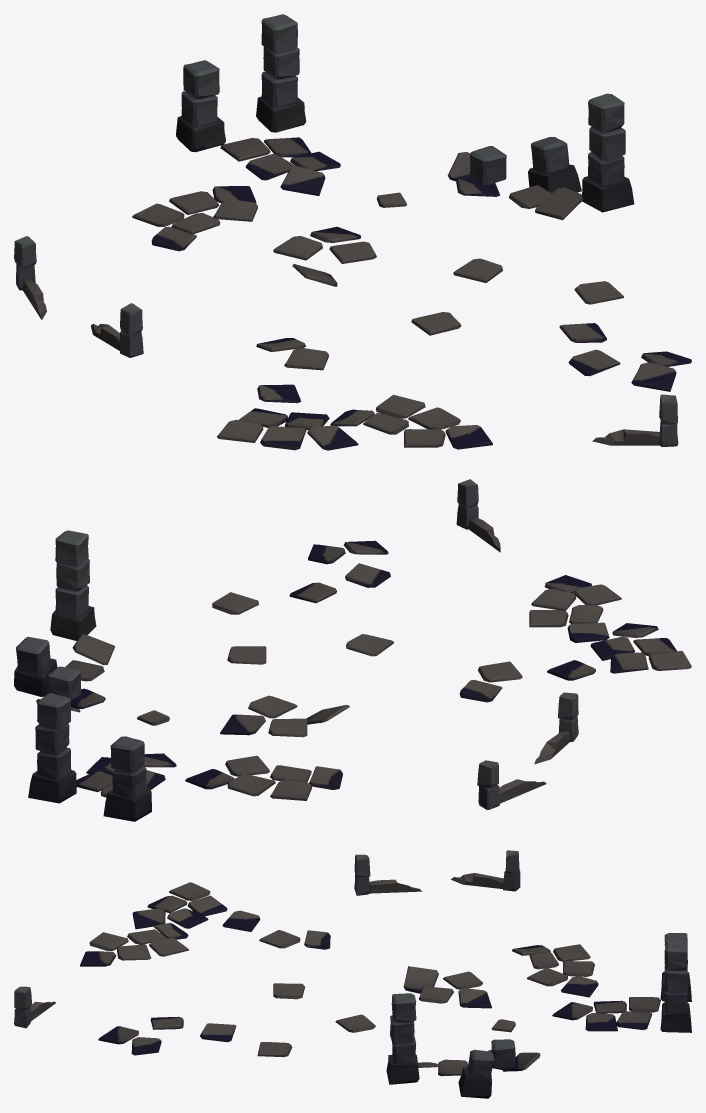
File: Ground_04.FBX
3 renders of one model, top to bottom at view 1: azimuth 30°, elevation 25°; view 2: azimuth 150°, elevation 25°; view 3: azimuth 270°, elevation 25°, orthographic. The views are drawn at different scales.
Visible parts, largest first — view 1: Ground_04; view 2: Ground_04; view 3: Ground_04.
Boxes of the visible parts, left/top/right/bottom form: Ground_04: left=14, top=14, right=691, bottom=450; Ground_04: left=14, top=479, right=691, bottom=821; Ground_04: left=14, top=850, right=691, bottom=1098.
Bounding box in the file's own units: 17.22 × 3.77 × 23.2.
